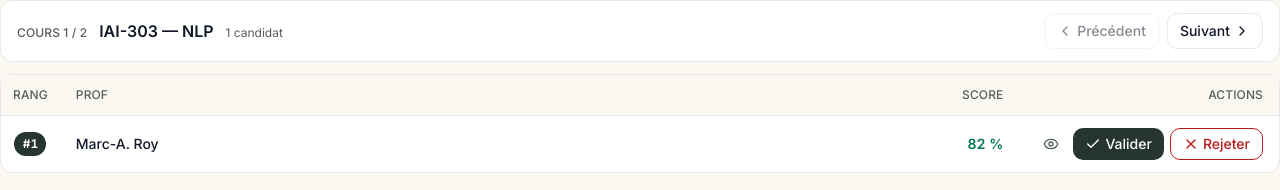
Test case: AffectationCompactTable › expose des boutons Précédent / Suivant pour naviguer entre cours
Expected: the button "Précédent" is disabled, left=1044, top=13, right=1159, bottom=49
Expected: the heading "IAI-303 — NLP" is shown, left=99, top=19, right=214, bottom=43
Click the button "Suivant".
click(1215, 31)  # box left=1167, top=13, right=1263, bottom=49
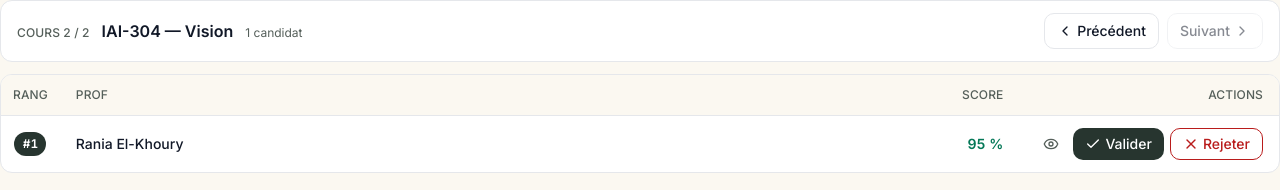
Expected: the heading "IAI-304 — Vision" is shown, left=102, top=19, right=233, bottom=43
Expected: the text "Cours 2 / 2" is shown, left=17, top=25, right=90, bottom=41
Expected: the button "Précédent" is enabled, left=1044, top=13, right=1159, bottom=49
